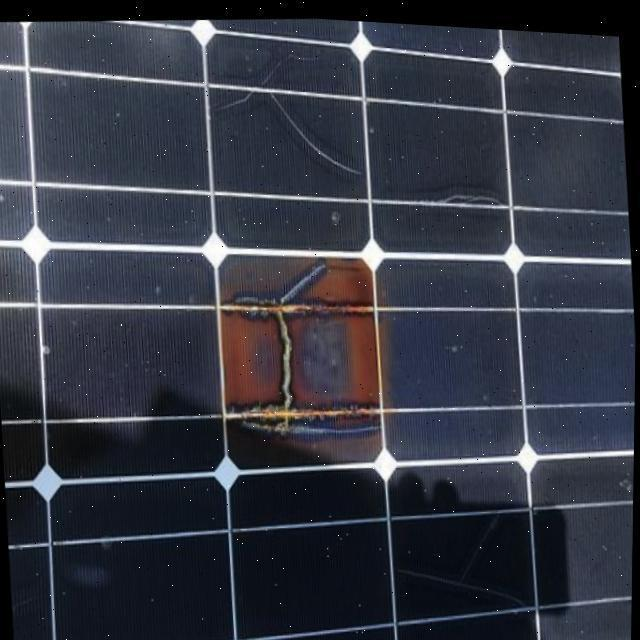Anomaly Solar Panel: (0, 14, 636, 640)
Structural Damage: (218, 242, 389, 469), (398, 484, 547, 600), (262, 84, 359, 177), (250, 38, 317, 84), (436, 184, 510, 201), (219, 83, 258, 111)
